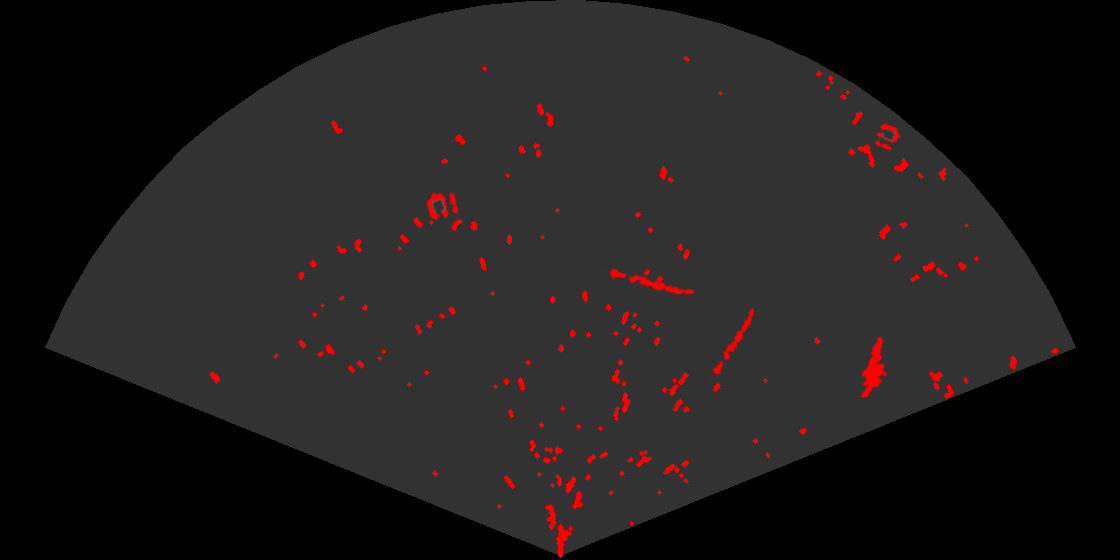ball: (425, 190, 461, 222), (873, 122, 902, 152)
chain: (706, 306, 756, 384), (603, 267, 696, 297)
frogman: (859, 335, 889, 397)
